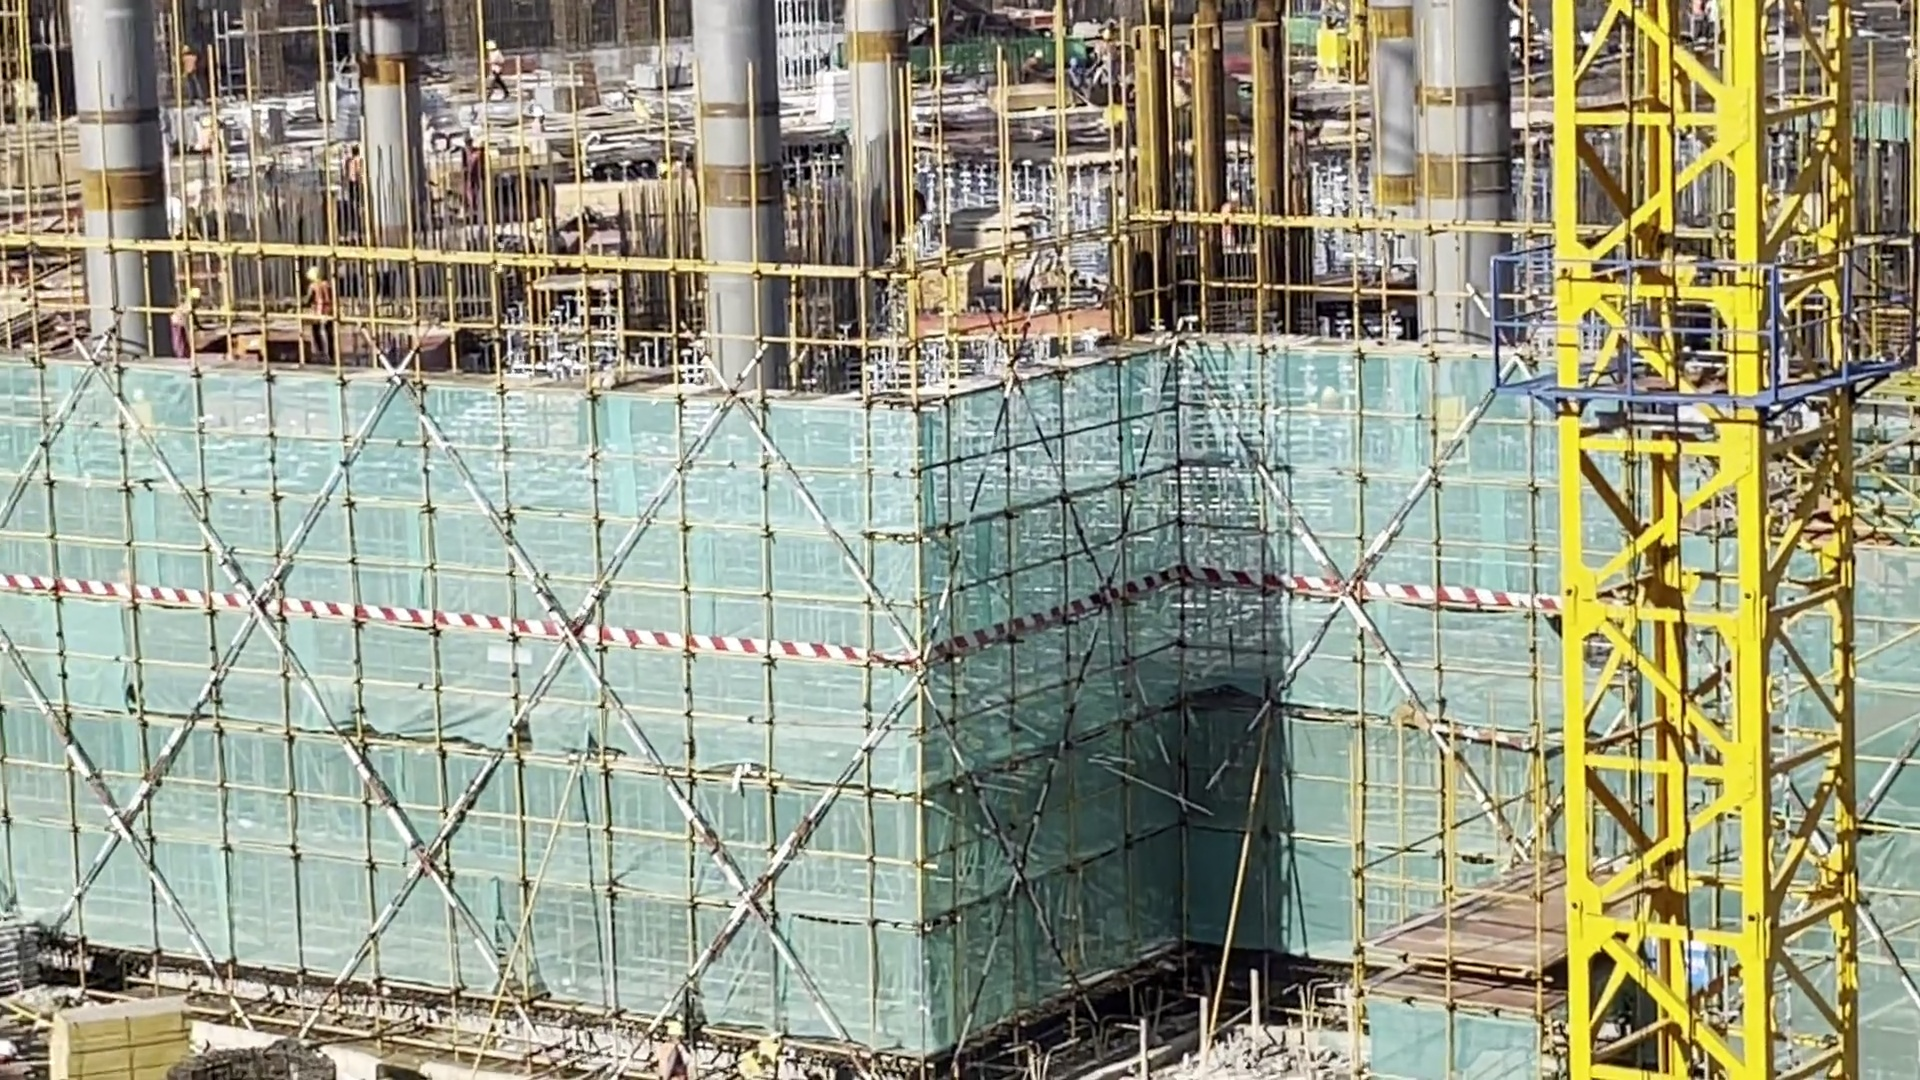board: (59, 1006, 190, 1080)
ebox: (1313, 26, 1352, 72)
helmet: (304, 267, 322, 279), (188, 286, 203, 299)
person: (302, 265, 331, 357), (177, 285, 205, 358), (483, 44, 506, 102)
vest: (297, 279, 327, 324)
